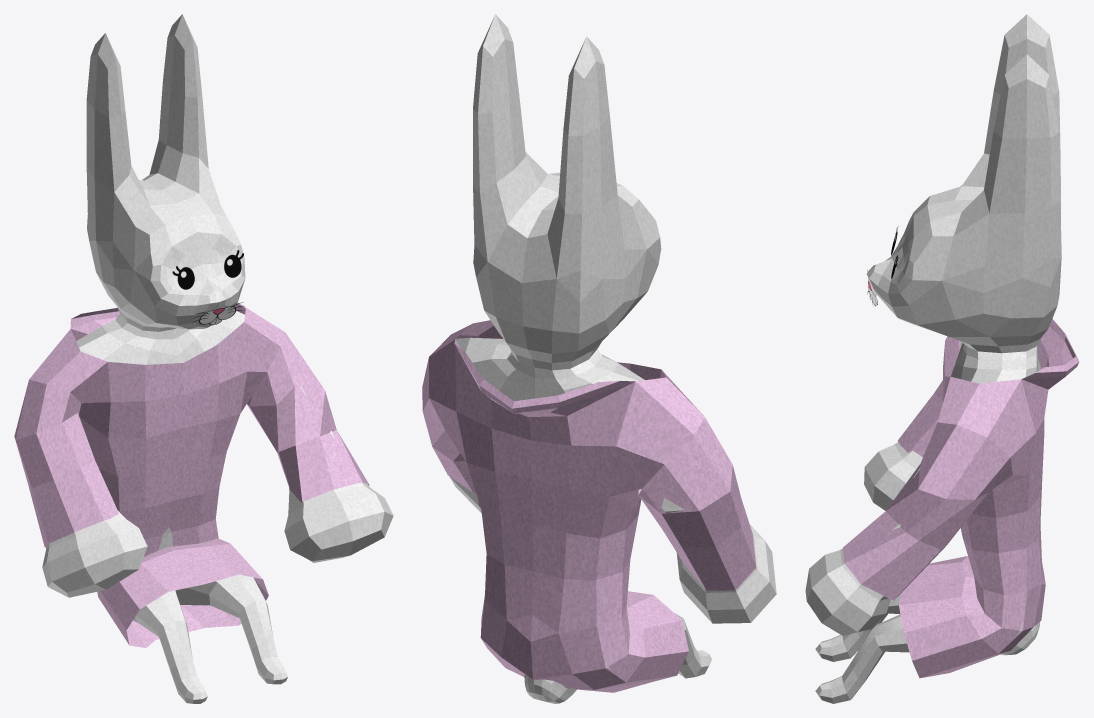
File: Conejo.glb
The picture shows the model from 3 angles, left to right: view 1: azimuth 30°, elevation 25°; view 2: azimuth 150°, elevation 25°; view 3: azimuth 270°, elevation 25°; orthographic projection. The views are drawn at different scales.
Visible parts, largest first — view 1: Cube_002.001; view 2: Cube_002.001; view 3: Cube_002.001.
Boxes of the visible parts, box(x1,y1,x2,y2) form: Cube_002.001: box(14, 14, 393, 703); Cube_002.001: box(422, 14, 776, 703); Cube_002.001: box(805, 14, 1079, 703).
Bounding box in the file's own units: 1.91 × 3.64 × 1.39.
Materials: 4 (4 with a texture image).
